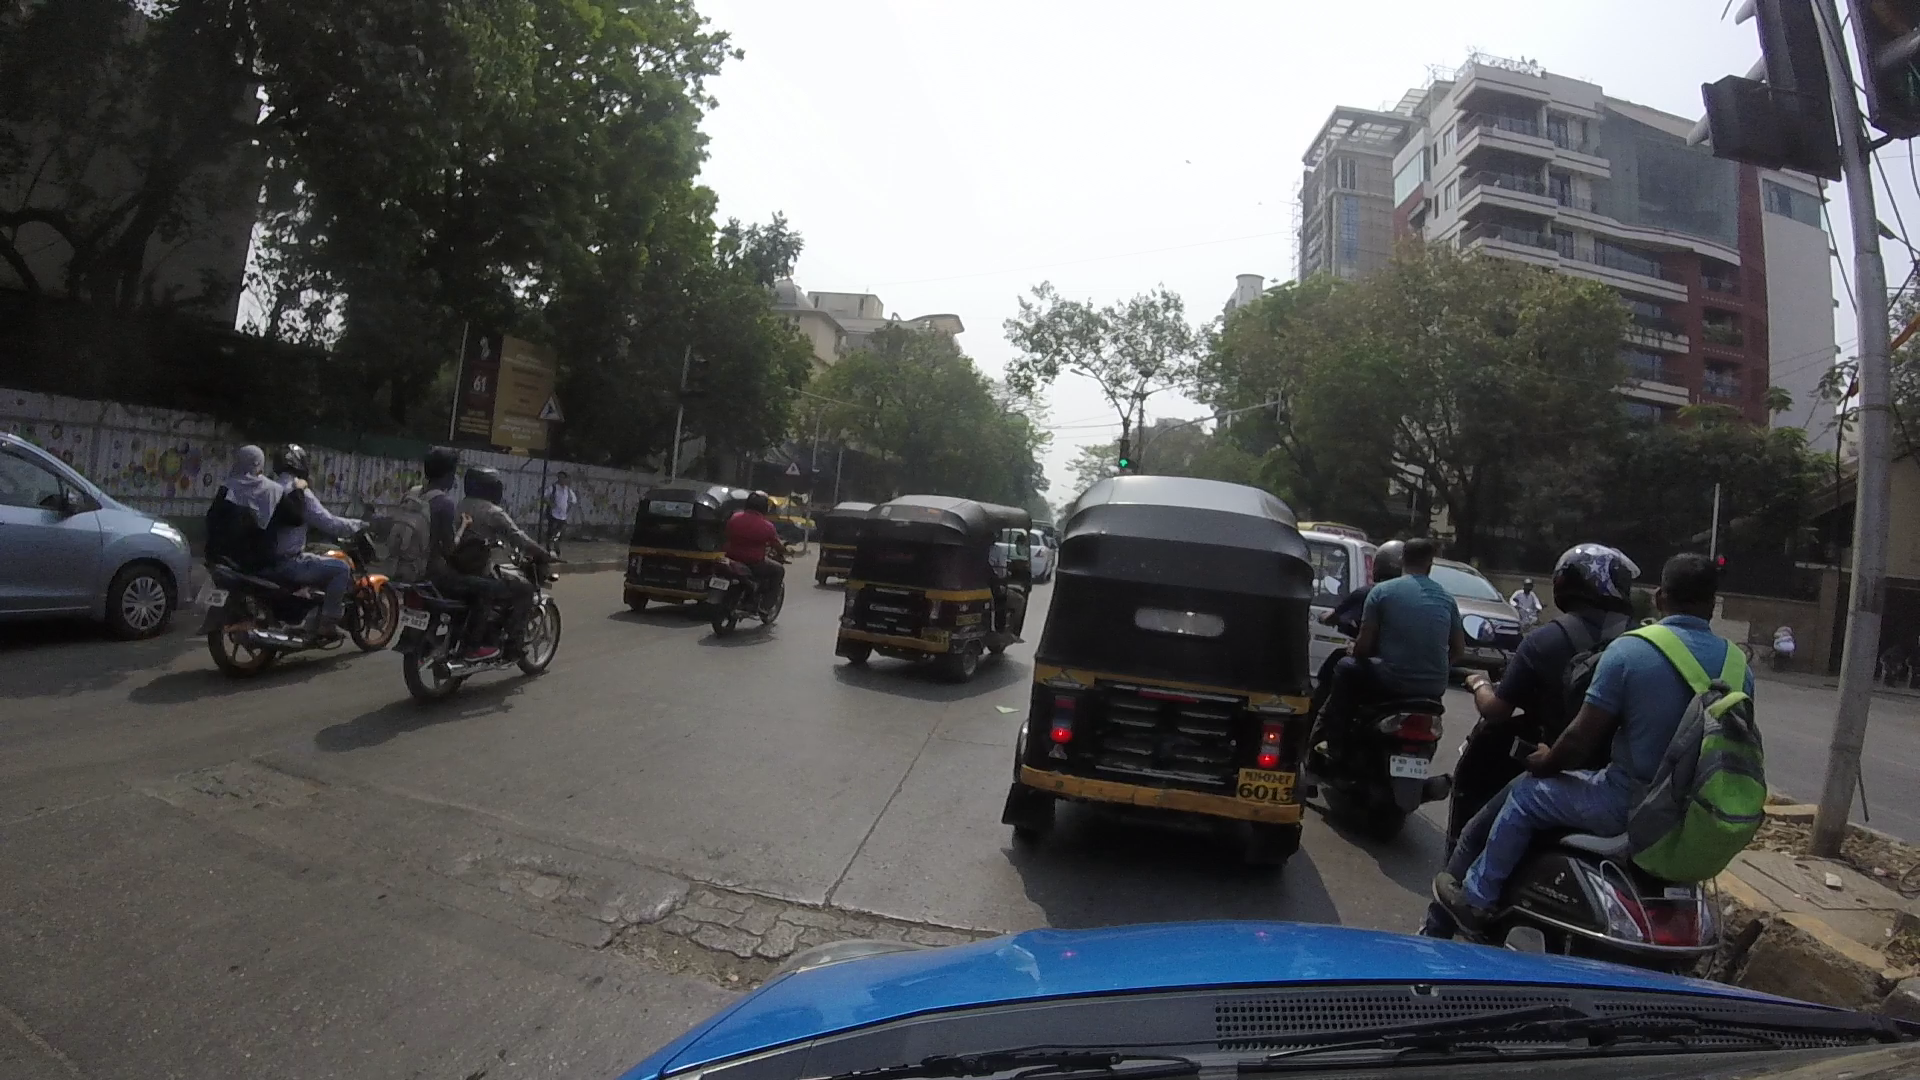bike/scooter: (1443, 550, 1763, 957), (378, 443, 576, 709), (1323, 534, 1487, 818), (199, 446, 394, 666)
car: (1, 421, 190, 665)
rickshaw: (1010, 464, 1319, 869), (835, 502, 1033, 673), (617, 459, 756, 603), (818, 484, 872, 596)
